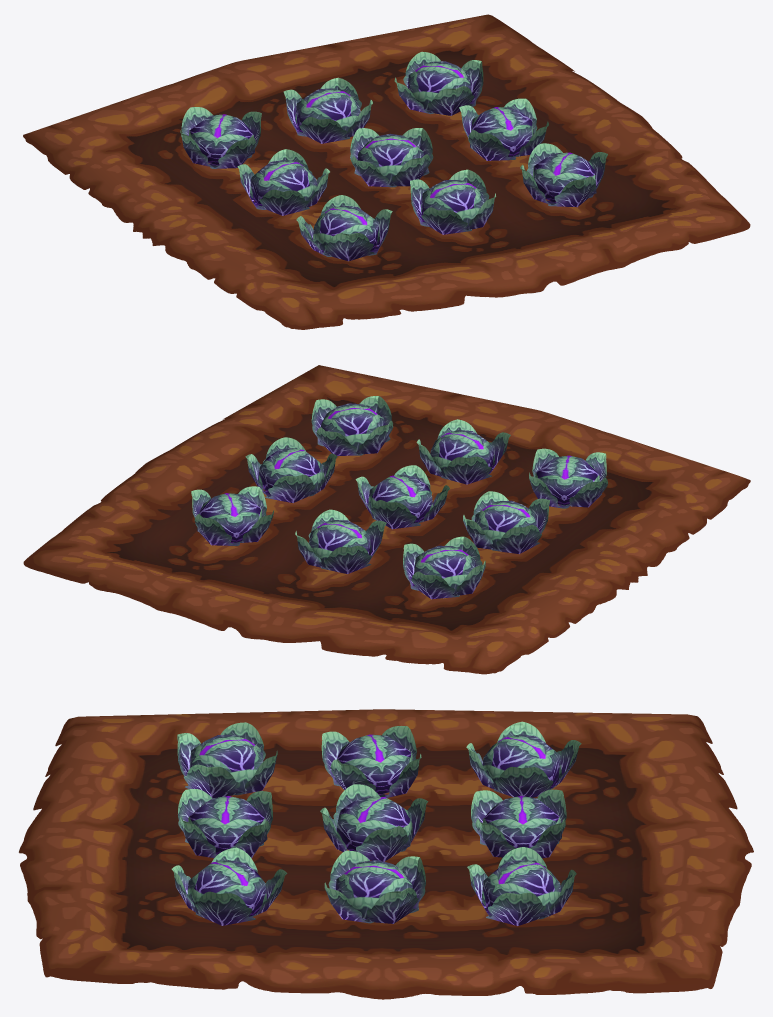
File: Cabbage_Field_Violet_Lv2.FBX
The picture shows the model from 3 angles, top to bottom: view 1: azimuth 30°, elevation 25°; view 2: azimuth 150°, elevation 25°; view 3: azimuth 270°, elevation 25°; orthographic projection. The views are drawn at different scales.
Visible parts, largest first — view 1: Cabbage_Field_Violet_Lv2; view 2: Cabbage_Field_Violet_Lv2; view 3: Cabbage_Field_Violet_Lv2.
Boxes of the visible parts, box(x1,y1,x2,y2) form: Cabbage_Field_Violet_Lv2: box(23, 14, 750, 329); Cabbage_Field_Violet_Lv2: box(23, 365, 750, 674); Cabbage_Field_Violet_Lv2: box(18, 709, 753, 999).
Bounding box in the file's own units: 274 × 24.92 × 296.
